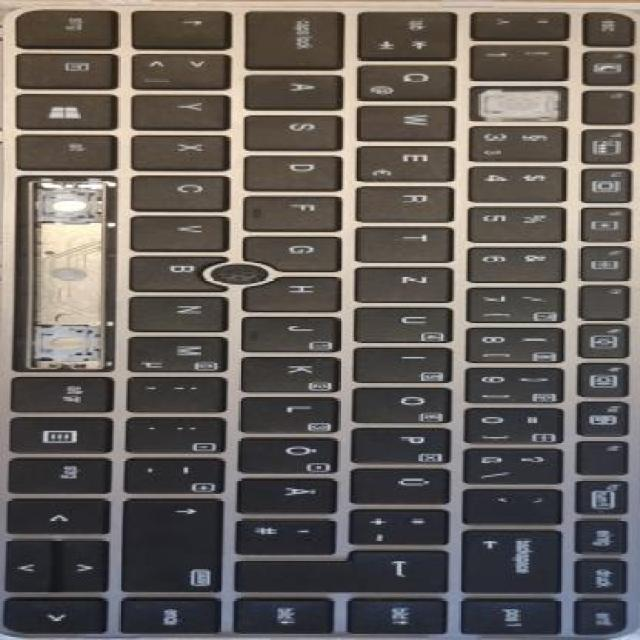Keyboard problems: (17, 180, 114, 368), (472, 88, 566, 118)
